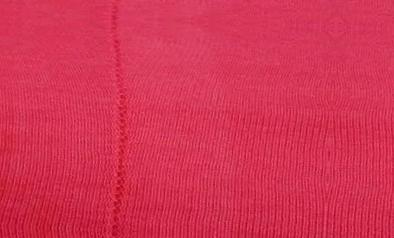slub: (101, 1, 135, 236)
